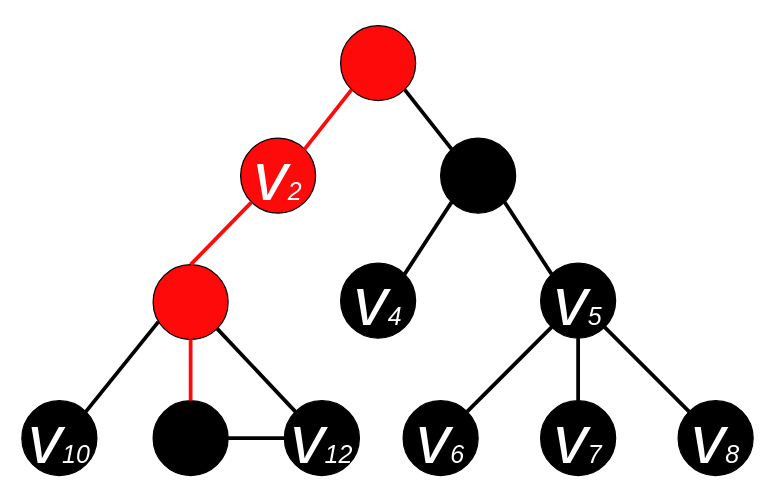
This 775x501 diagram has some shape labels left out. The centre of each missing label's shape, as x and y in pixels:
"v 1" belongs at (x=377, y=62).
"v 11" belongs at (x=190, y=437).
"v 3" belongs at (x=477, y=175).
"v 9" belongs at (x=190, y=301).
